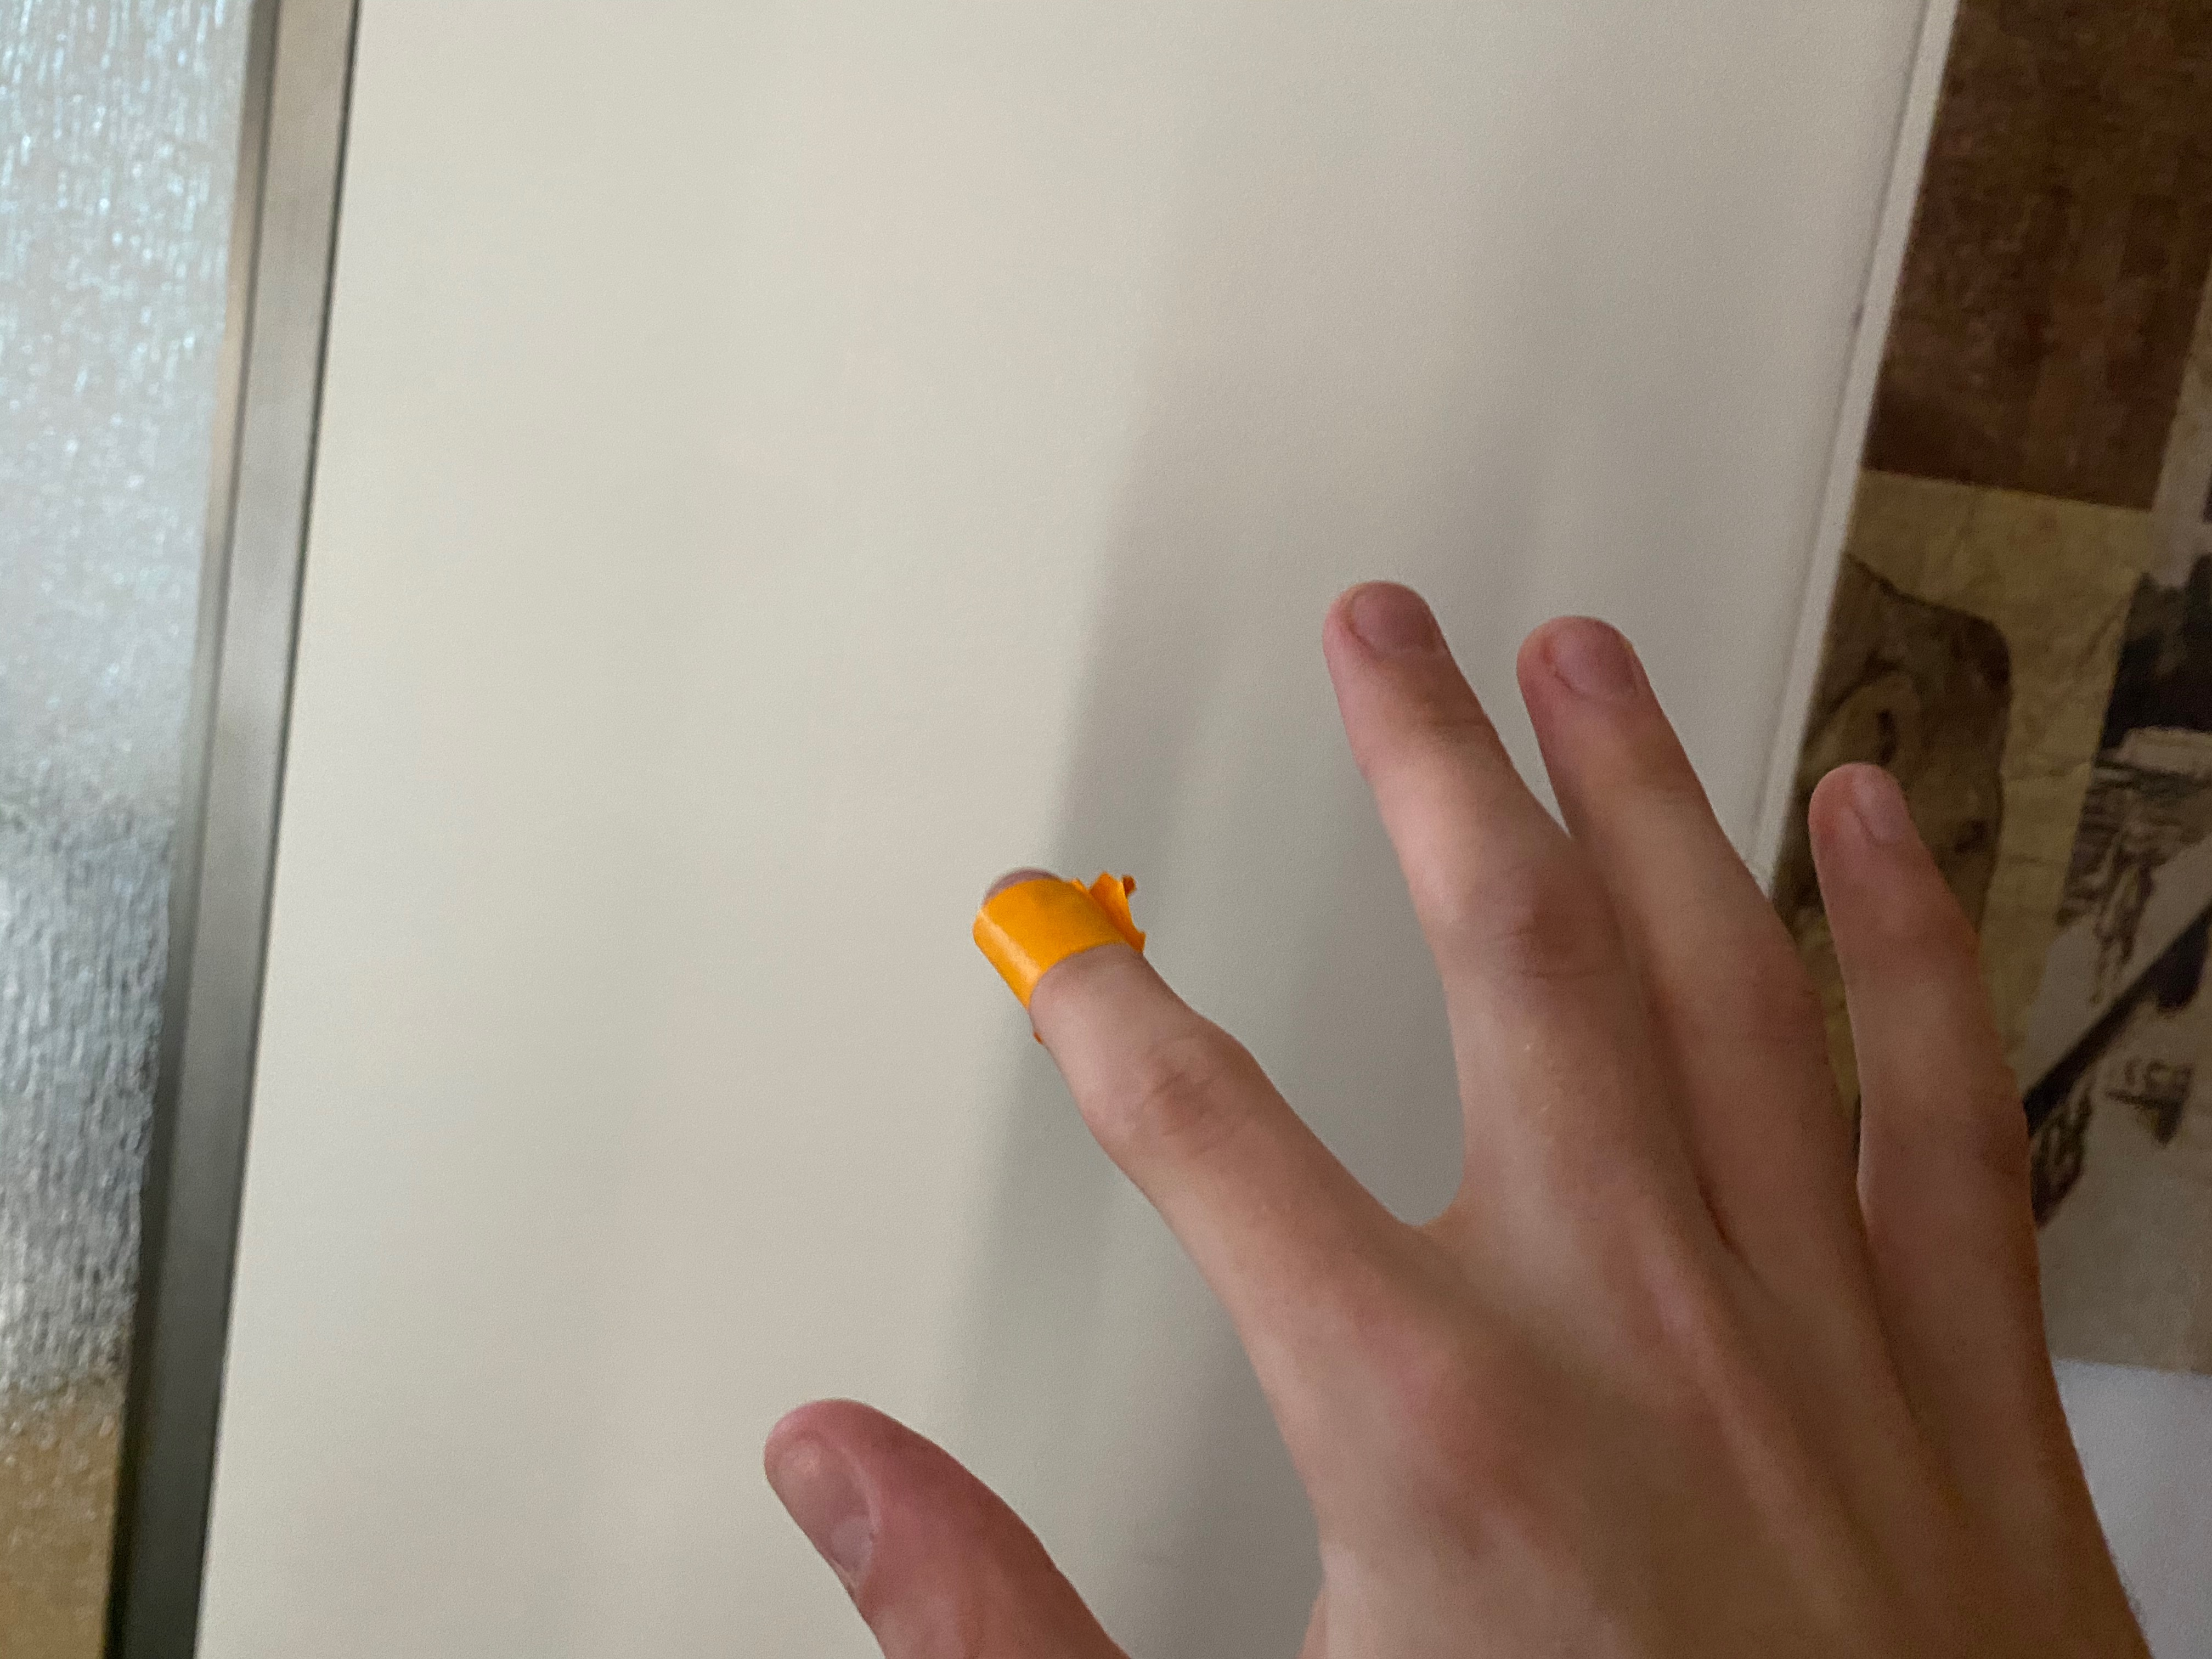fingertip: (928, 854, 1172, 1007)
